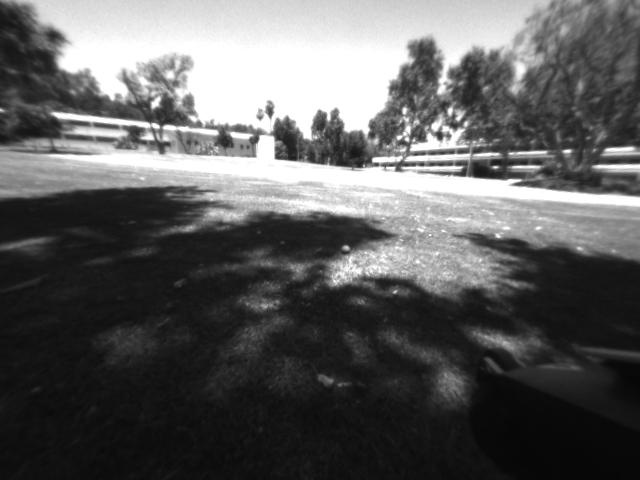dogtoy: (339, 240, 352, 256)
